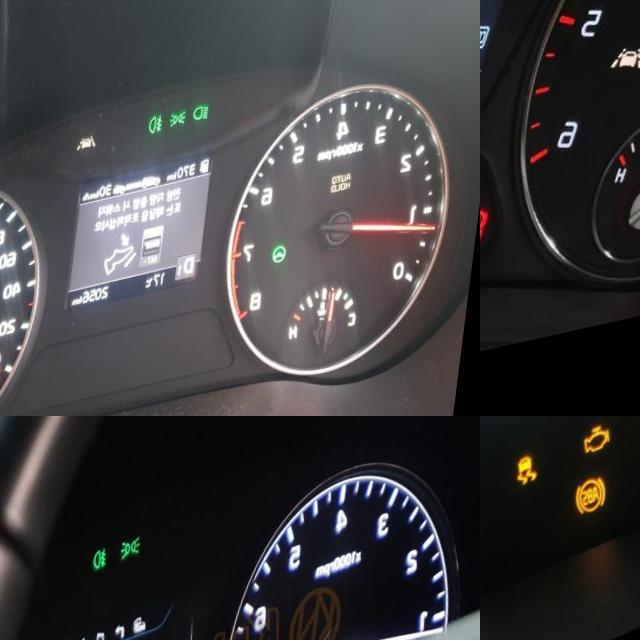FrontFogLight: (99, 556, 114, 580), (154, 125, 169, 148)
LaneCenteringOff: (621, 62, 640, 95), (82, 144, 103, 161)
Low beam: (198, 118, 215, 137)
SideLamp: (126, 546, 148, 571), (174, 123, 193, 141)
